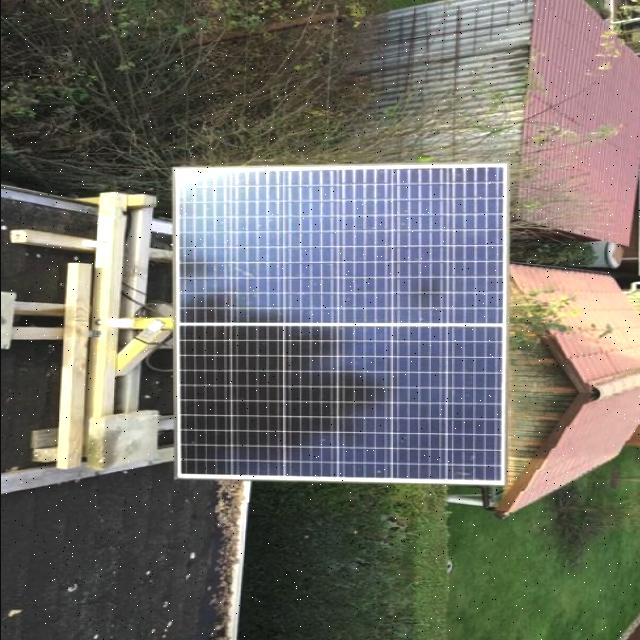Normal Solar Panel: (172, 164, 502, 483)
